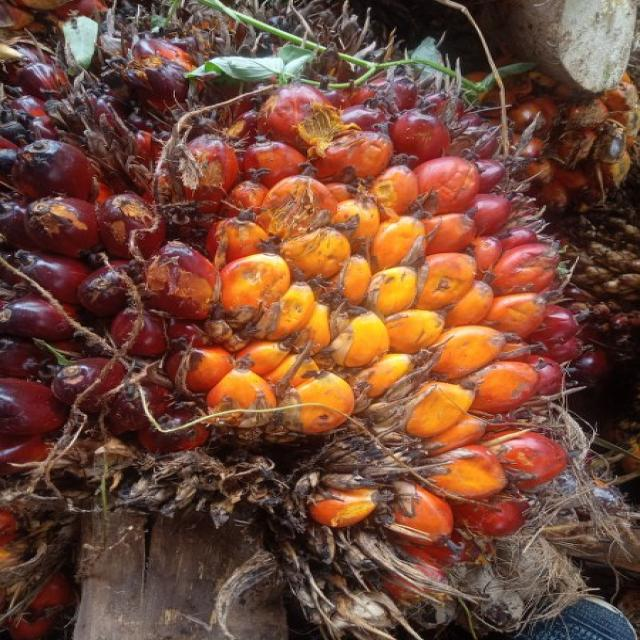fraksi 1: (0, 21, 588, 632)
